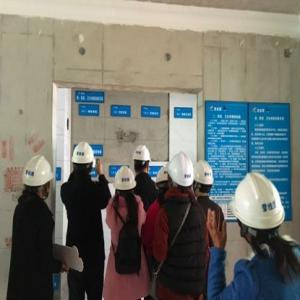white: (233, 173, 285, 250), (23, 155, 52, 201), (168, 150, 195, 192), (194, 161, 215, 199), (73, 141, 96, 175), (114, 166, 137, 199), (133, 146, 152, 176)
